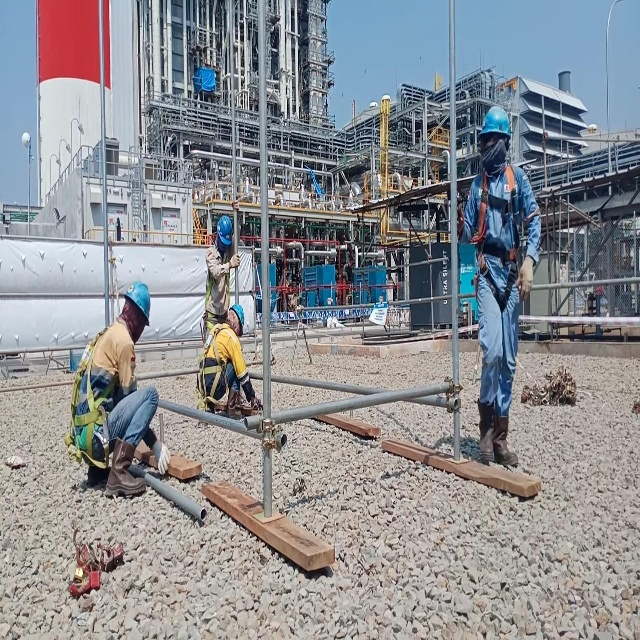Arnes_seguridad: (64, 314, 118, 475), (472, 162, 521, 312), (198, 320, 228, 414)
